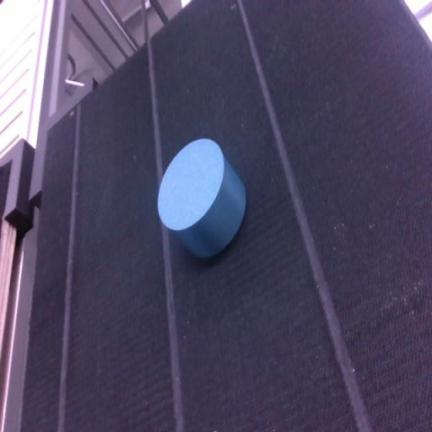cylinder: (158, 138, 246, 257)
